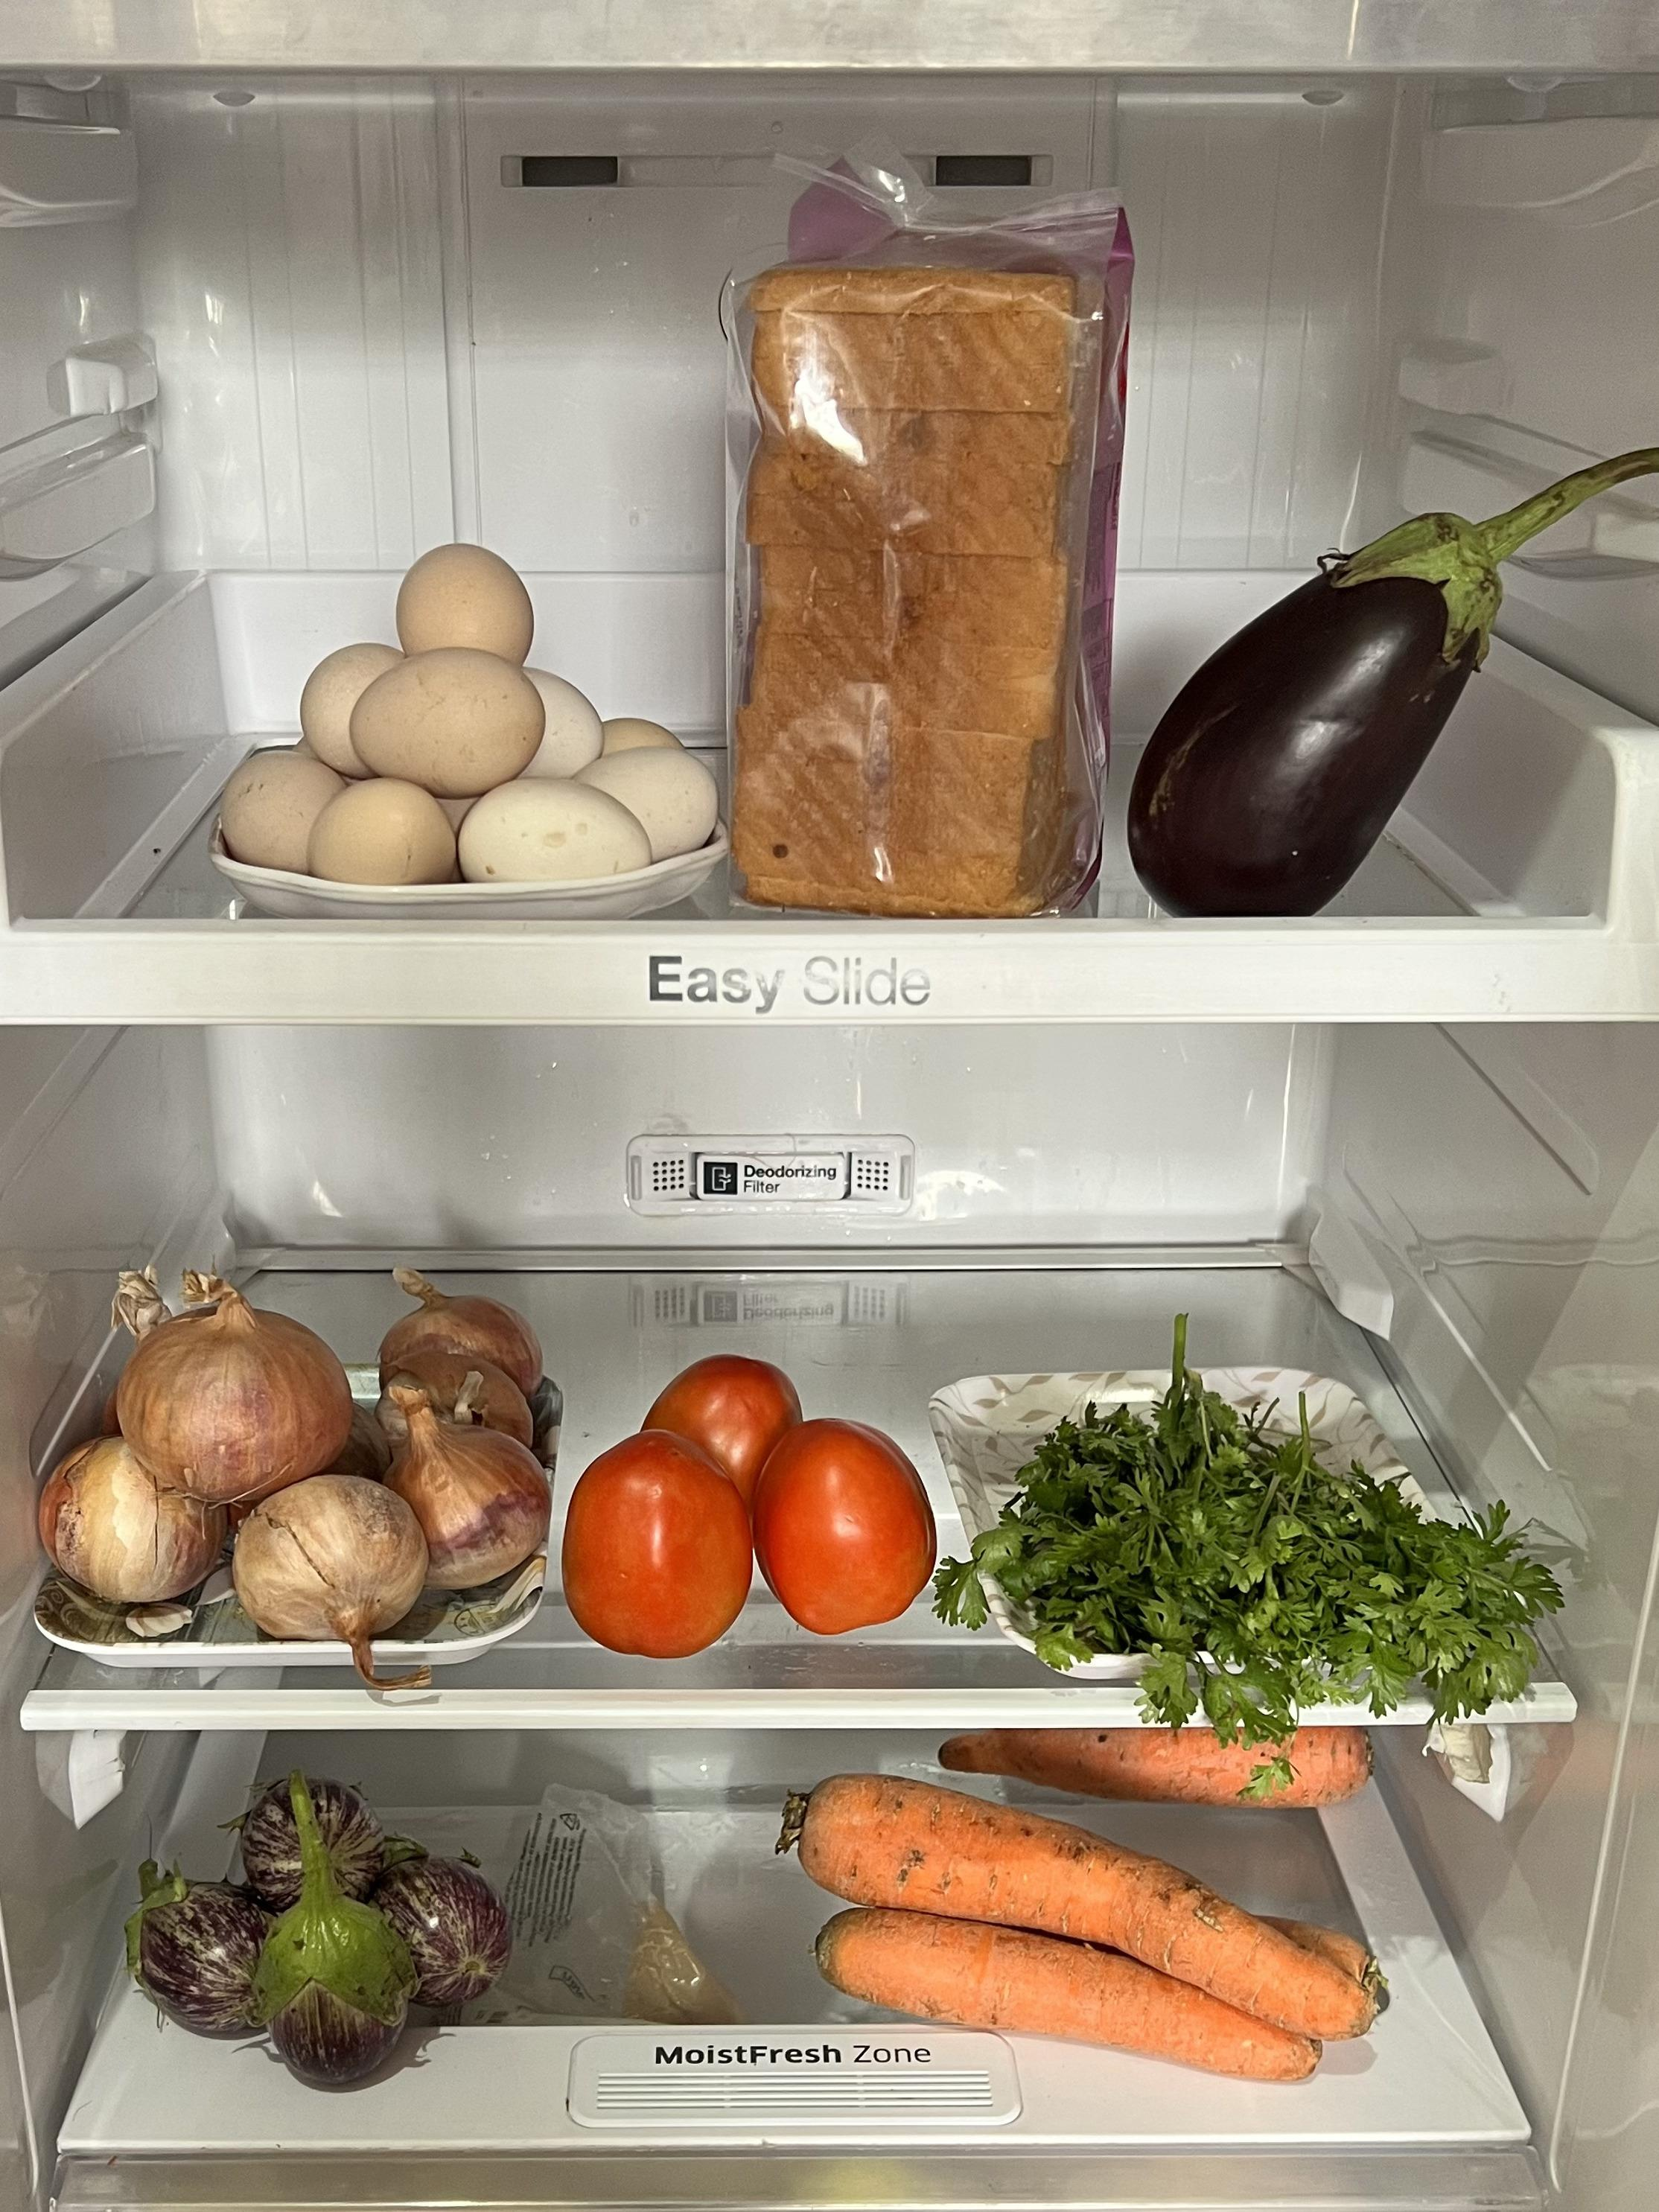bread: (709, 193, 1122, 925)
bringal: (1131, 481, 1581, 918), (136, 1763, 502, 2083)
carrots: (781, 1763, 1370, 2090)
coriander: (986, 1388, 1546, 1721)
egg: (221, 536, 704, 894)
onion: (30, 1264, 551, 1641)
tomato: (570, 1355, 927, 1648)
